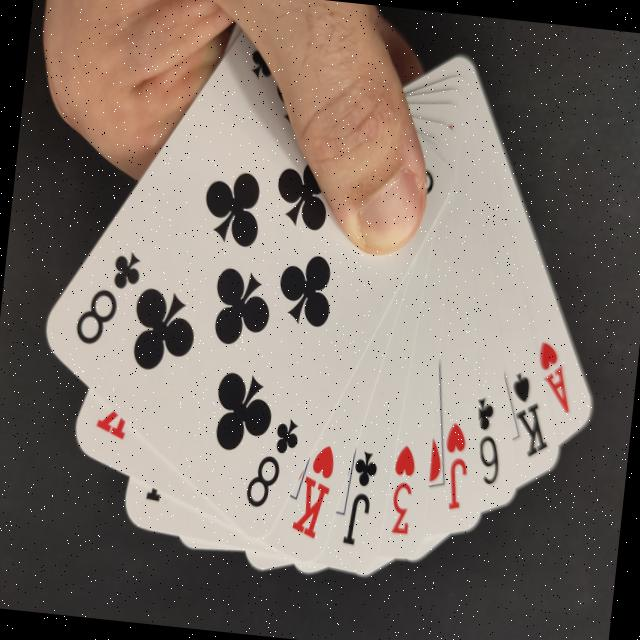3h: (382, 438, 422, 544)
6c: (465, 390, 509, 485)
8c: (68, 240, 147, 352), (239, 407, 304, 515)
Ah: (528, 334, 584, 419)
Jc: (337, 440, 383, 552)
Jh: (434, 415, 472, 517)
Kh: (287, 435, 338, 543)
Ks: (498, 366, 555, 464)
